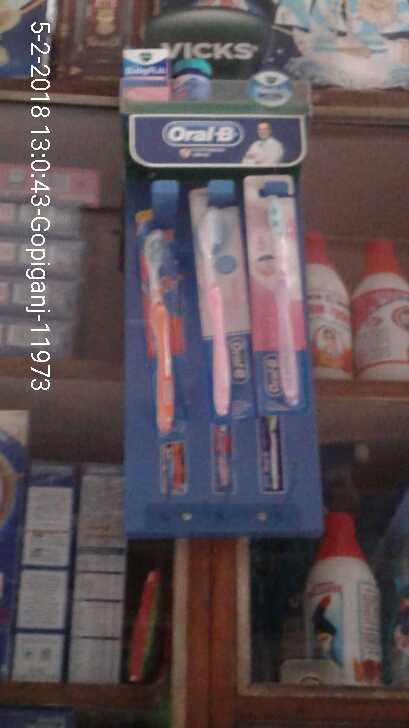oralb: (237, 169, 307, 412), (190, 190, 261, 427), (132, 212, 194, 437)
